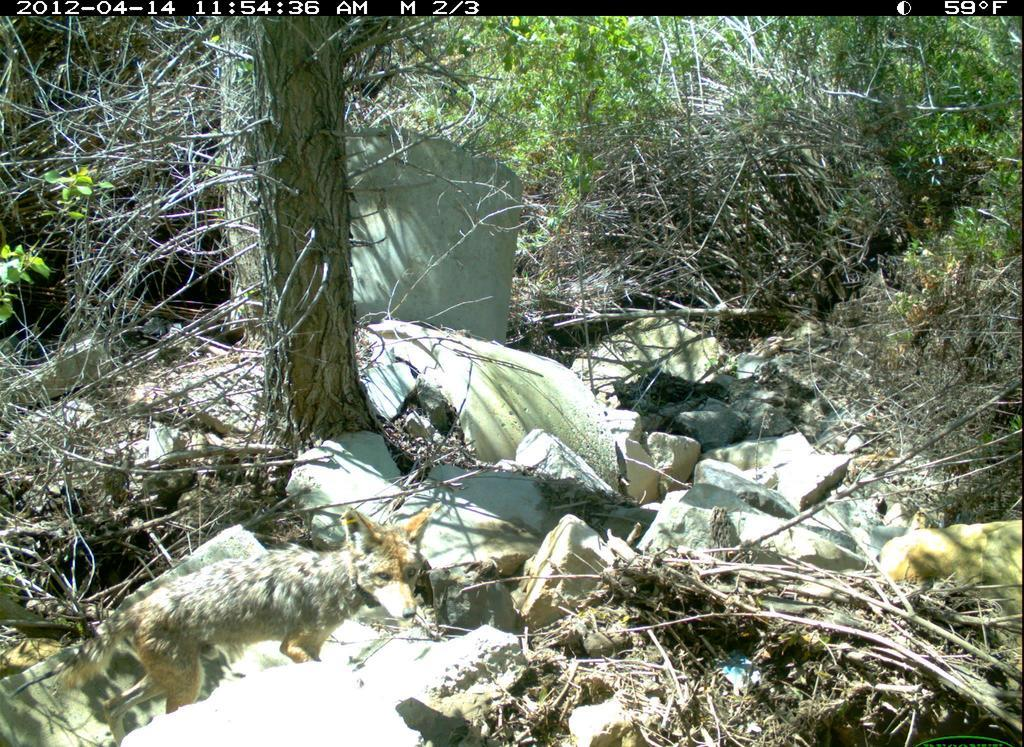coyote: (52, 497, 453, 747)
